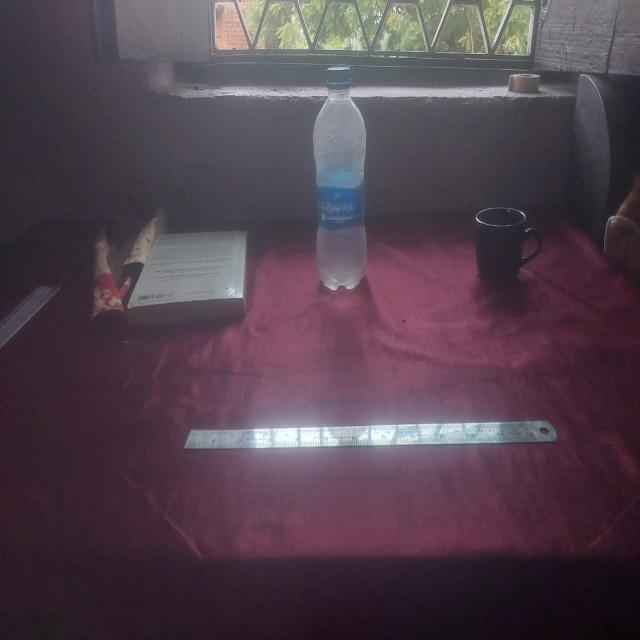Book: (127, 216, 253, 314)
Bottle: (312, 67, 372, 295)
Cup: (466, 205, 550, 285)
scale: (188, 416, 556, 452)
